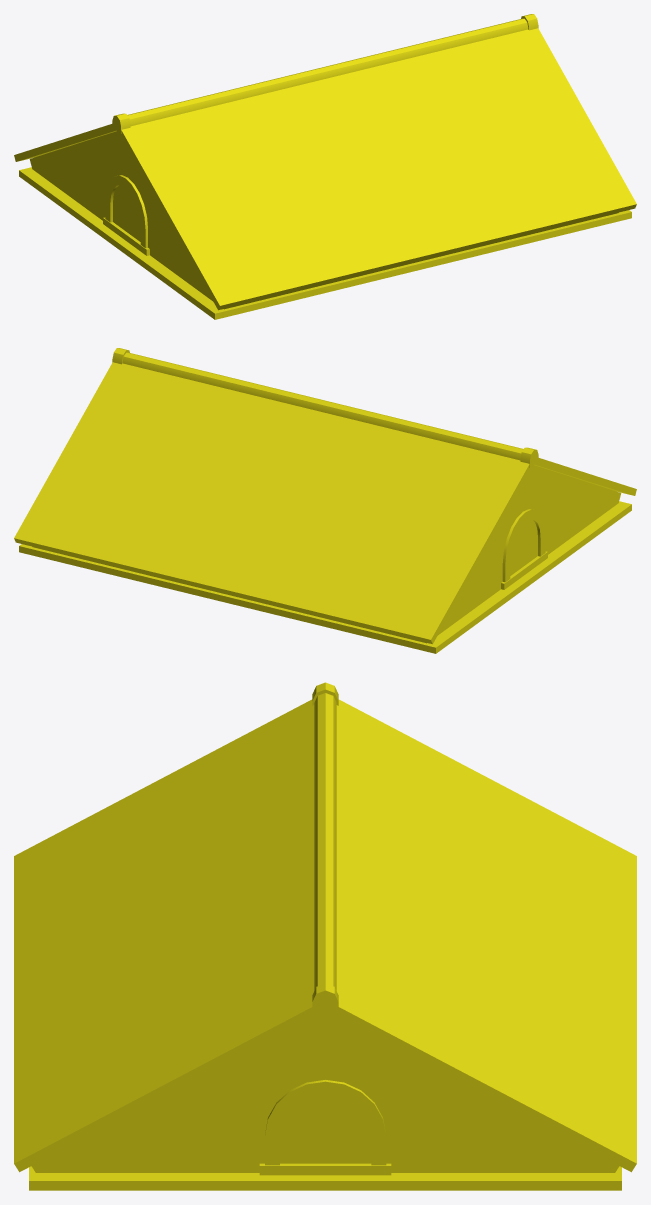
The model's file is SM_town_BD_roof.fbx.
3 renders of one model, top to bottom at view 1: azimuth 30°, elevation 25°; view 2: azimuth 150°, elevation 25°; view 3: azimuth 270°, elevation 25°, orthographic. The views are drawn at different scales.
Visible parts, largest first — view 1: roof_bot_low; view 2: roof_bot_low; view 3: roof_bot_low.
Boxes of the visible parts, bbox=[...] form: roof_bot_low: bbox=[14, 14, 636, 319]; roof_bot_low: bbox=[14, 348, 636, 653]; roof_bot_low: bbox=[14, 682, 636, 1190].
Bounding box in the file's own units: 1401 × 425 × 1198.
